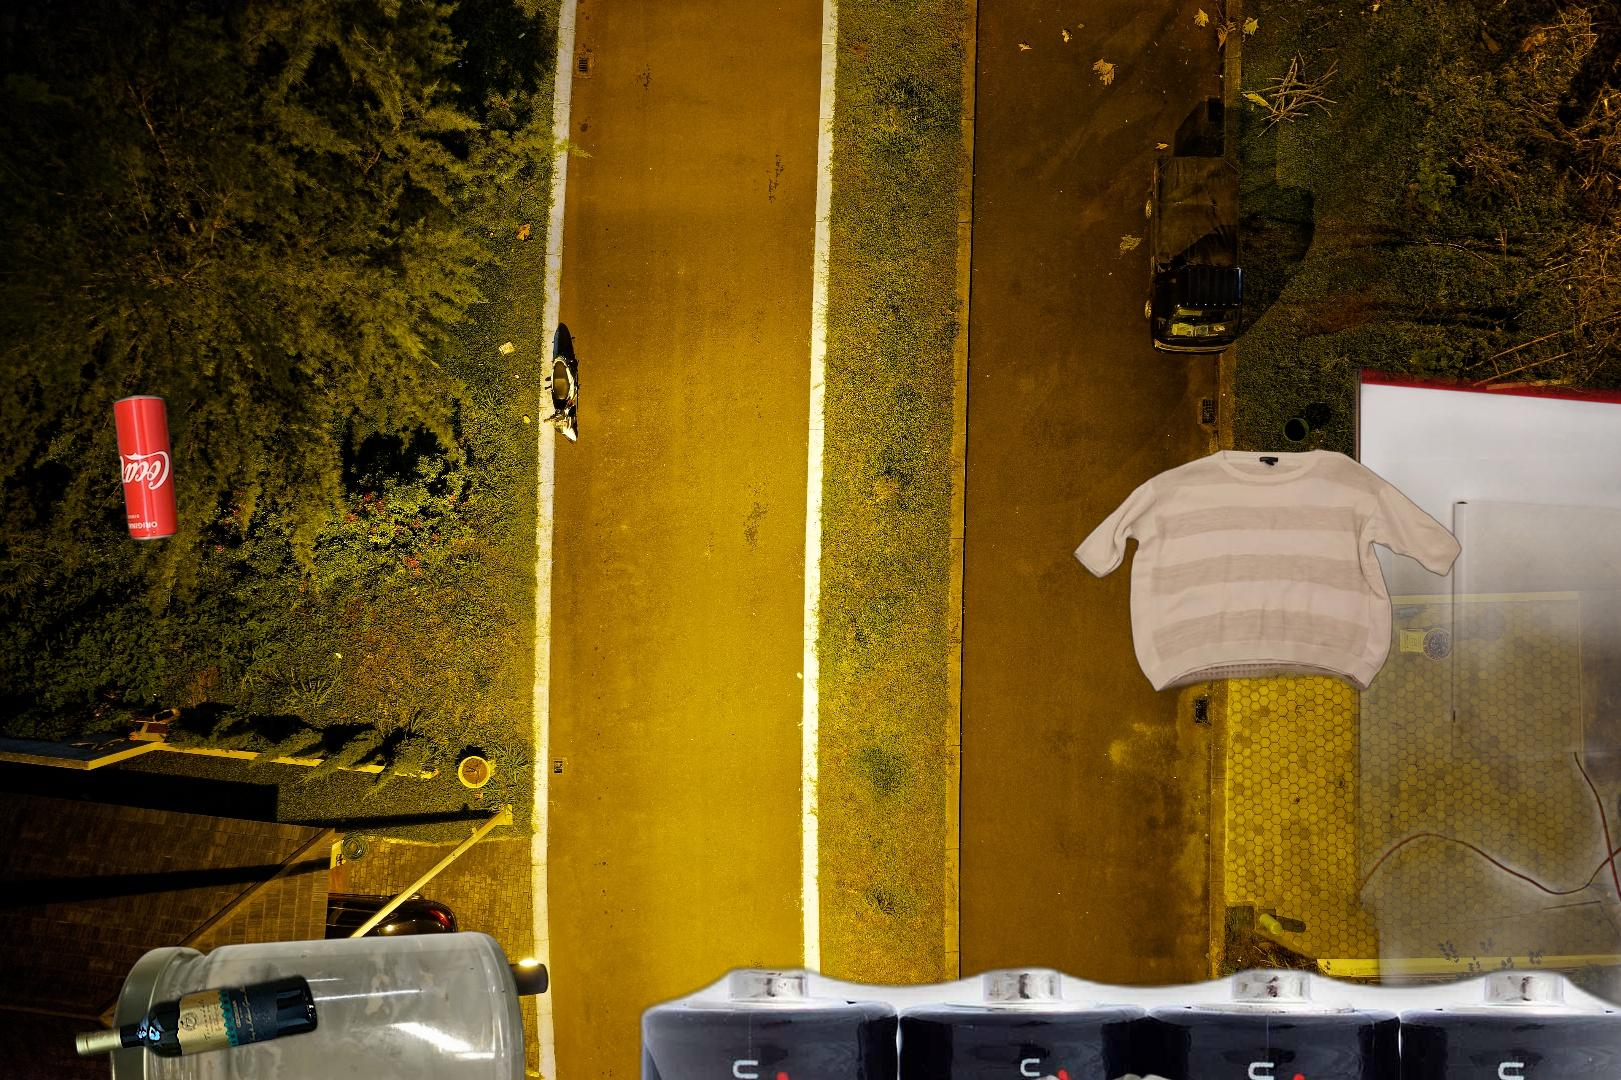battery: (629, 956, 1621, 1080)
biological: (1608, 448, 1621, 1080)
clothes: (1070, 444, 1464, 695), (883, 1060, 1253, 1080)
glass: (106, 925, 531, 1080), (71, 968, 322, 1064)
metal-cans: (108, 388, 183, 547)
trashbox-cardboard: (1300, 253, 1621, 1080)
